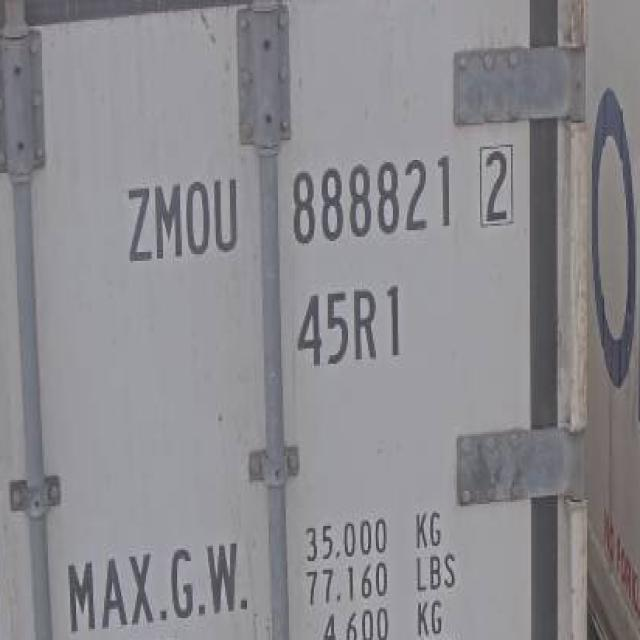dv: (472, 134, 526, 237)
owner: (113, 166, 250, 269)
serial: (284, 141, 460, 256)
size: (284, 278, 415, 372)
